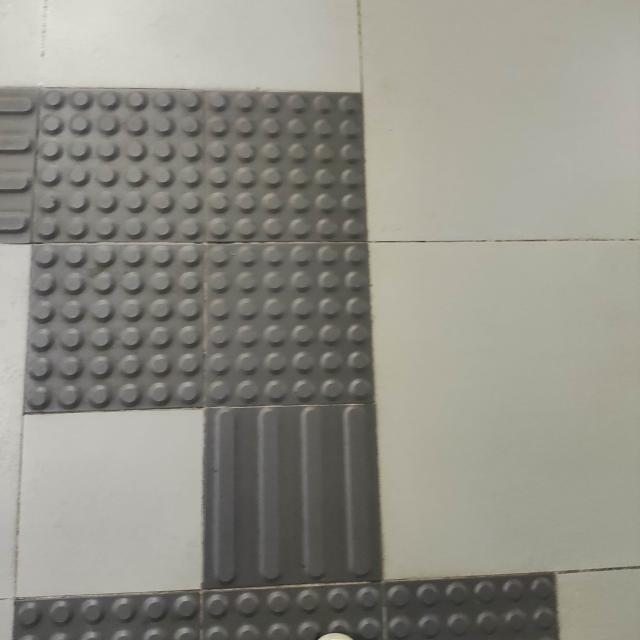kiri: (0, 68, 484, 510)
